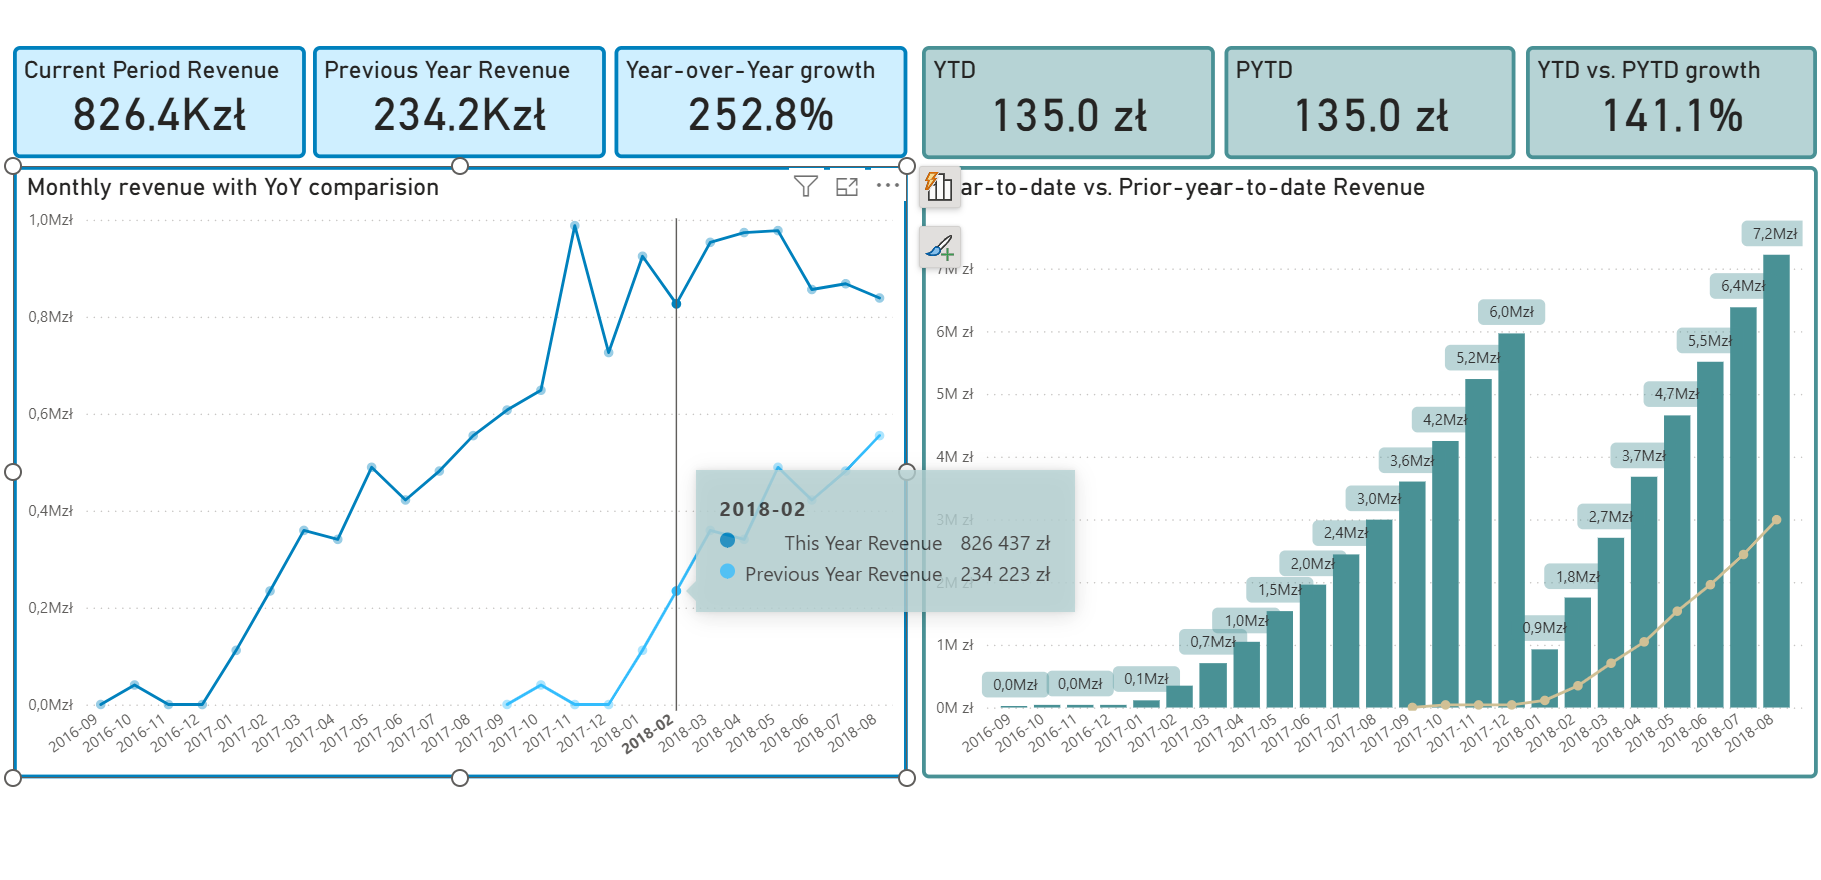

The dashboard page shown, as its layout file describes it:
{"tool":"powerbi","page":{"name":"Page 2","canvas":[1280,720],"ordinal":1},"visuals":[{"type":"lineClusteredColumnComboChart","title":"Year-to-date vs. Prior-year-to-date Revenue","fields":{"Category":["ecommerce vw_ytd_pytd.calendar_month"],"Y":["Max(ecommerce vw_ytd_pytd.ytd_revenue)"],"Y2":["Max(ecommerce vw_ytd_pytd.pytd_revenue)"]},"box":[647.5,149.4,627,429.1],"z":0},{"type":"card","title":"YTD","fields":{"Values":["Min(ecommerce vw_ytd_pytd.ytd_revenue)"]},"box":[647.5,65.1,205.6,79.2],"z":1000},{"type":"card","title":"PYTD","fields":{"Values":["Min(ecommerce vw_ytd_pytd.pytd_revenue)"]},"box":[859.4,65.1,204.3,79.2],"z":2000},{"type":"card","title":"YTD vs. PYTD growth","fields":{"Values":["Min(ecommerce vw_ytd_pytd.ytd_change_pct)"]},"box":[1070.1,65.1,204.3,79.2],"z":3000},{"type":"lineChart","title":"Monthly revenue with YoY comparision","fields":{"Category":["ecommerce vw_mom_yoy.calendar_month"],"Y":["Max(ecommerce vw_mom_yoy.monthly_revenue)","Max(ecommerce vw_mom_yoy.previous_year_rev)"]},"box":[10.2,149.4,627,429.1],"z":4000},{"type":"card","title":"Year-over-Year growth","fields":{"Values":["Min(ecommerce vw_mom_yoy.yoy_growth_pct)"]},"box":[431.7,64.9,205.4,78.8],"z":5000},{"type":"card","title":"Previous Year Revenue","fields":{"Values":["Min(ecommerce vw_mom_yoy.previous_year_rev)"]},"box":[221,64.9,205.4,78.8],"z":6000},{"type":"card","title":"Current Period Revenue","fields":{"Values":["Min(ecommerce vw_mom_yoy.monthly_revenue)"]},"box":[10.2,64.9,205.4,78.8],"z":7000}]}

Visuals, with their boxes on the page's 1280x720 design canvas (x1, y1, x2, y2). These are canvas units, not pixel positions in the 1821x880 screenshot, which may show the page scaled, cropped or inside an application window:
"Year-to-date vs. Prior-year-to-date Revenue" lineClusteredColumnComboChart: [left=648, top=149, right=1274, bottom=578]
"YTD" card: [left=648, top=65, right=853, bottom=144]
"PYTD" card: [left=859, top=65, right=1064, bottom=144]
"YTD vs. PYTD growth" card: [left=1070, top=65, right=1274, bottom=144]
"Monthly revenue with YoY comparision" lineChart: [left=10, top=149, right=637, bottom=578]
"Year-over-Year growth" card: [left=432, top=65, right=637, bottom=144]
"Previous Year Revenue" card: [left=221, top=65, right=426, bottom=144]
"Current Period Revenue" card: [left=10, top=65, right=216, bottom=144]
